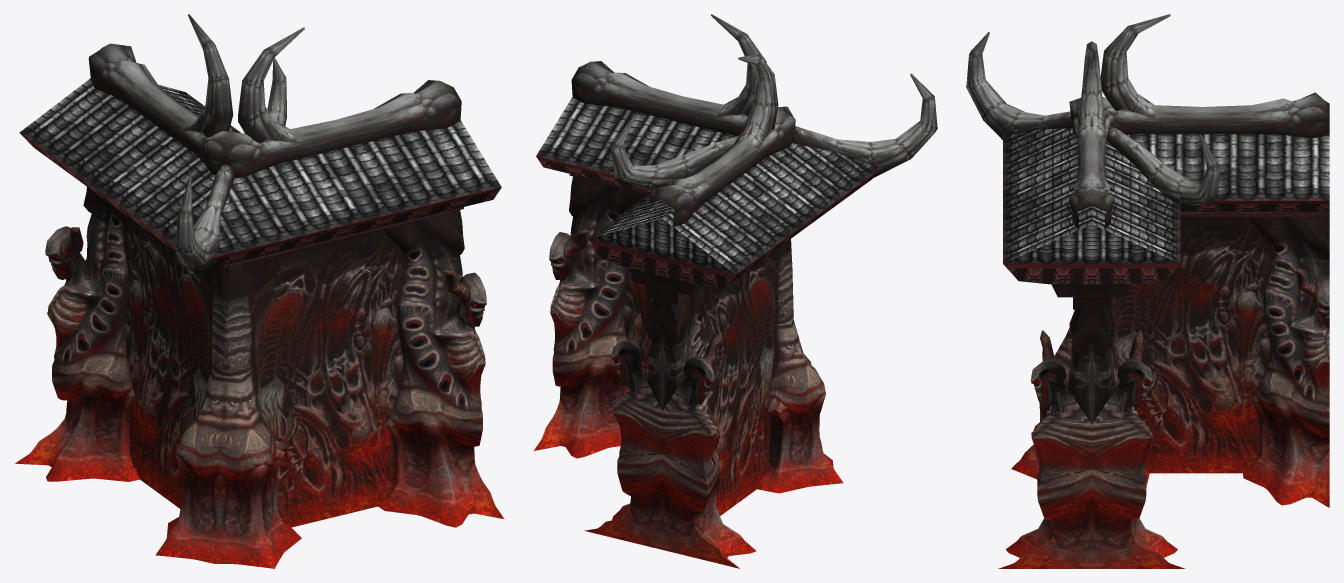
The model's file is otherworld_wall_coner.glb.
The picture shows the model from 3 angles, left to right: view 1: azimuth 30°, elevation 25°; view 2: azimuth 150°, elevation 25°; view 3: azimuth 270°, elevation 25°; orthographic projection. The views are drawn at different scales.
Parts seen in each view (by area): view 1: otherworld_wall_coner; view 2: otherworld_wall_coner; view 3: otherworld_wall_coner.
Boxes of the visible parts, box(x1,y1,x2,y2) form: otherworld_wall_coner: box(15, 14, 504, 568); otherworld_wall_coner: box(533, 14, 937, 568); otherworld_wall_coner: box(966, 14, 1329, 568).
Bounding box in the file's own units: 7.64 × 10.55 × 7.64.
Materials: 3 (3 with a texture image).
